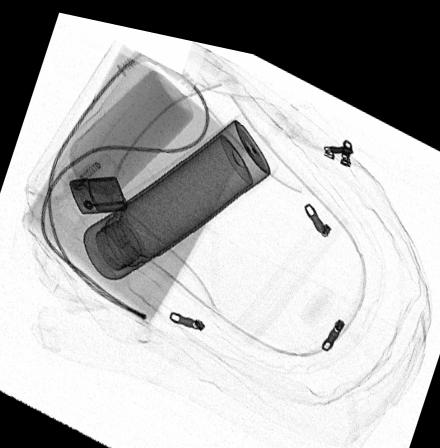Lighter: (68, 170, 128, 210)
